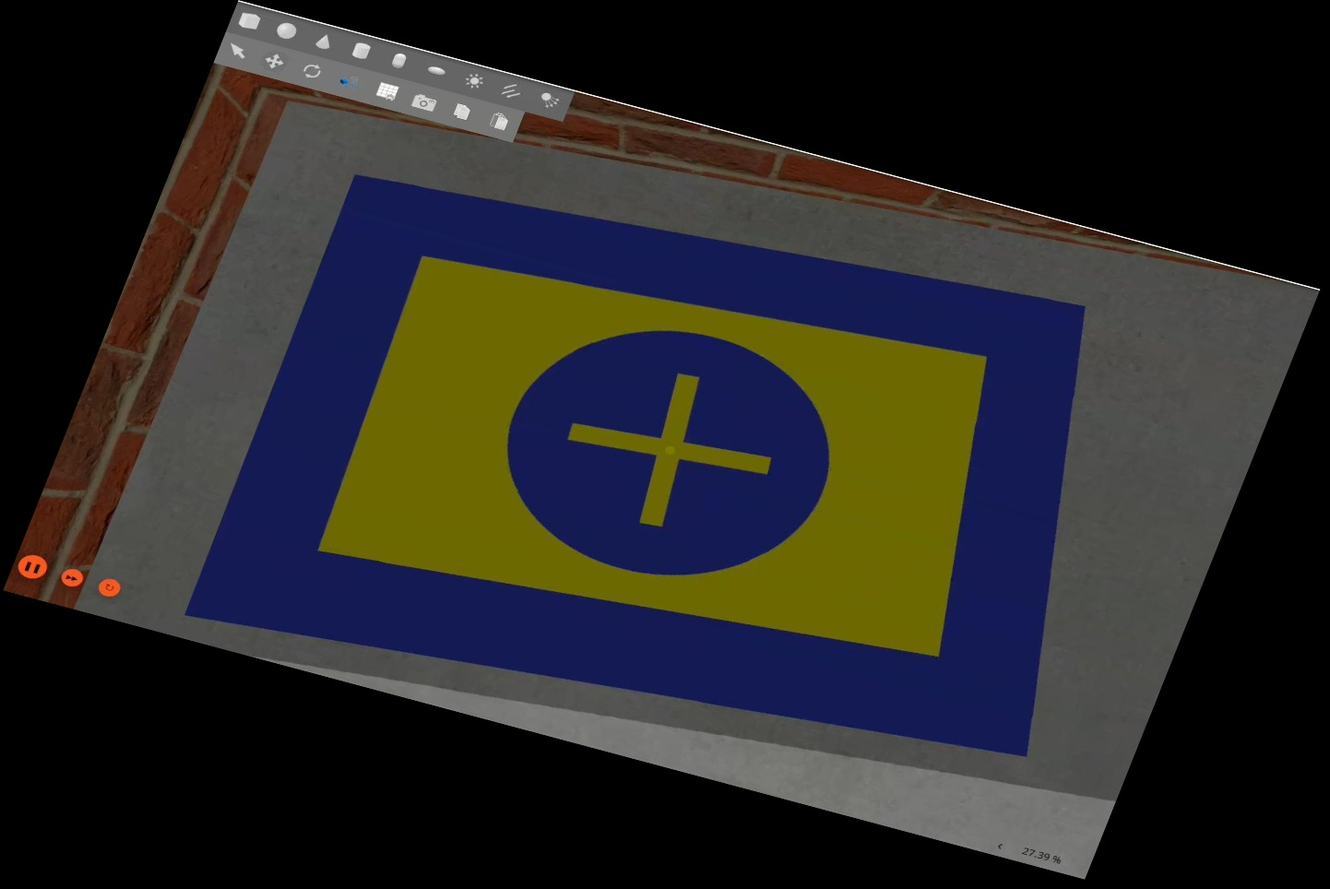large_base: (172, 119, 1197, 840)
